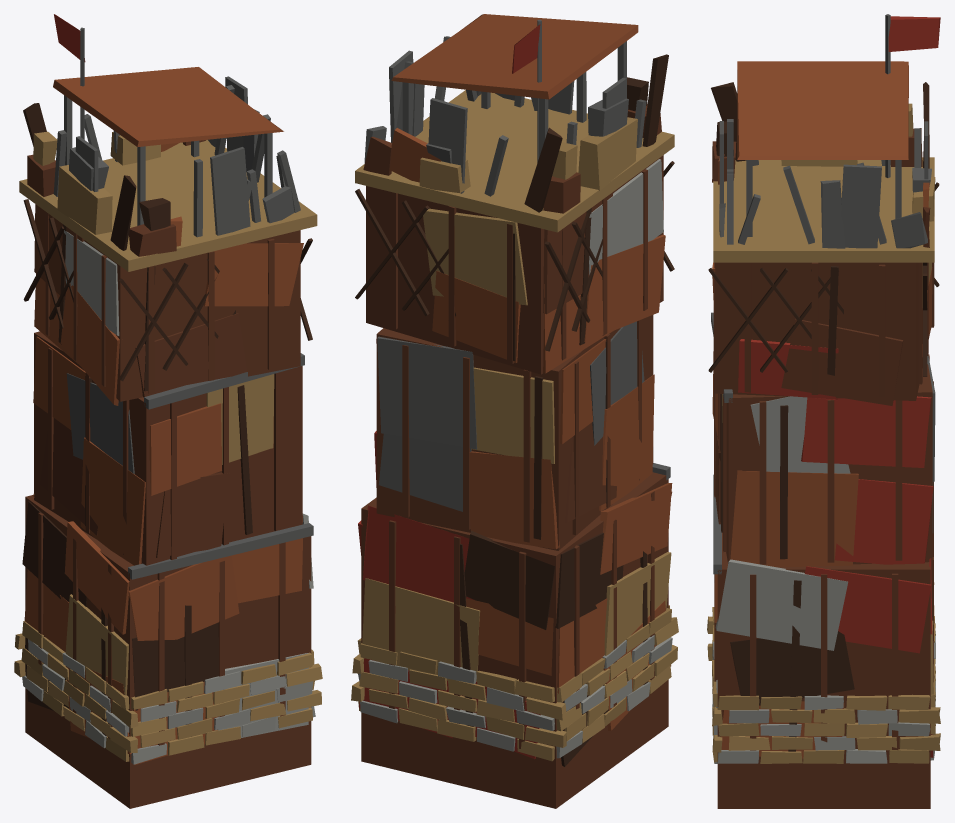
Rendered from fort_scrap_tower.glb.
3 views of the same model, side by side, from view 1: azimuth 30°, elevation 25°; view 2: azimuth 150°, elevation 25°; view 3: azimuth 270°, elevation 25° (orthographic). The views are drawn at different scales.
Parts seen in each view (by area): view 1: fort_scrap_tower; view 2: fort_scrap_tower; view 3: fort_scrap_tower.
Boxes of the visible parts, x1,y1,x2,y2 form: fort_scrap_tower: (14,14,322,808); fort_scrap_tower: (351,14,678,808); fort_scrap_tower: (707,14,940,808).
Size of the model in its own units: 5.49 by 18.7 by 5.49.
